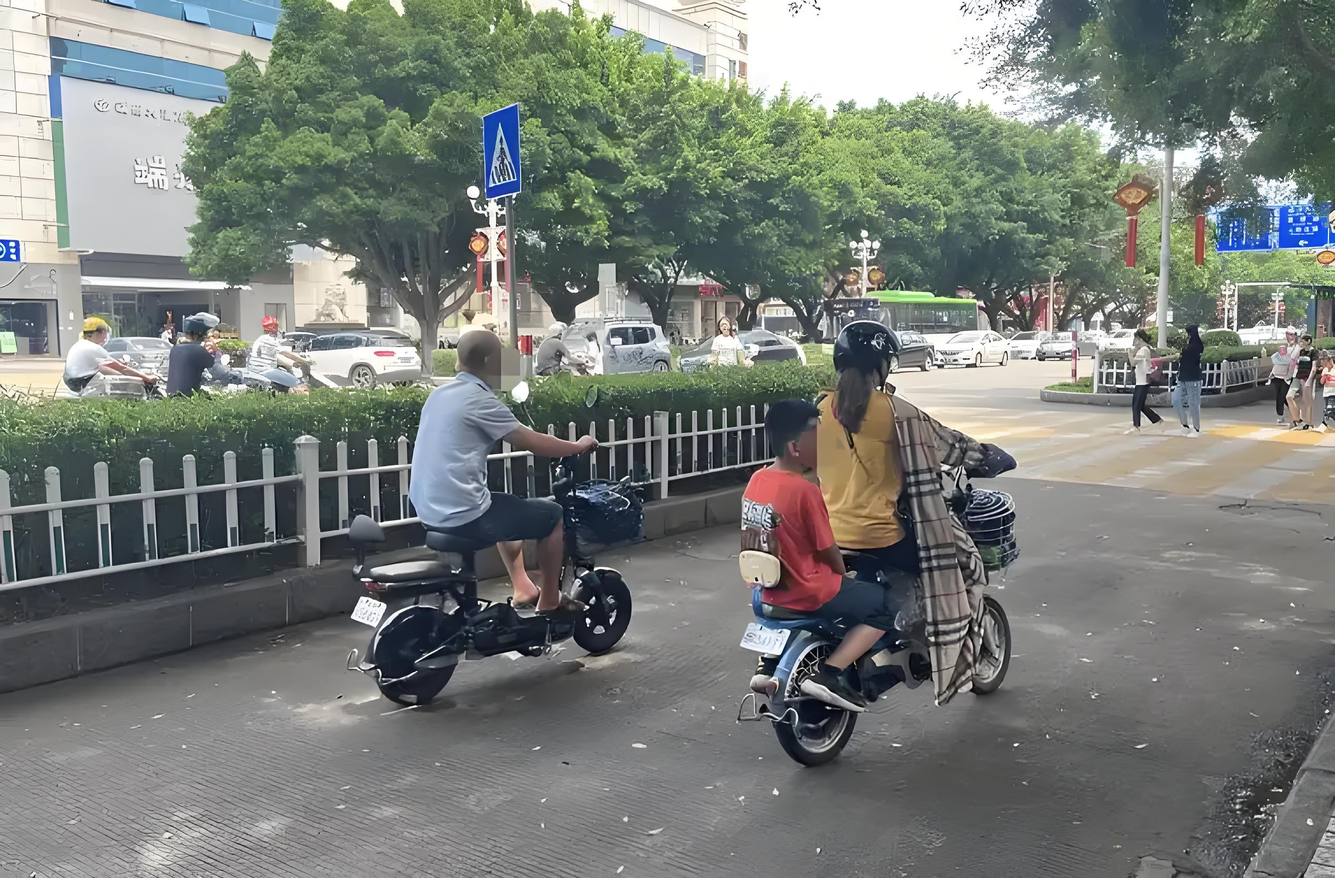bus: (817, 285, 988, 368)
car: (288, 325, 409, 392), (694, 324, 823, 377), (571, 310, 671, 377), (930, 321, 1019, 374), (932, 316, 1006, 371), (868, 322, 944, 375), (1000, 324, 1065, 366), (101, 335, 164, 374), (1007, 329, 1056, 366), (1075, 327, 1121, 357)
motorbike: (743, 388, 993, 769), (359, 476, 646, 691)
person: (759, 357, 984, 759), (402, 320, 608, 622), (236, 308, 309, 403), (1124, 328, 1174, 436), (72, 308, 136, 381), (1174, 331, 1216, 437), (1278, 326, 1316, 435), (1256, 329, 1300, 420), (167, 317, 217, 393), (708, 309, 749, 379), (534, 323, 576, 371)
